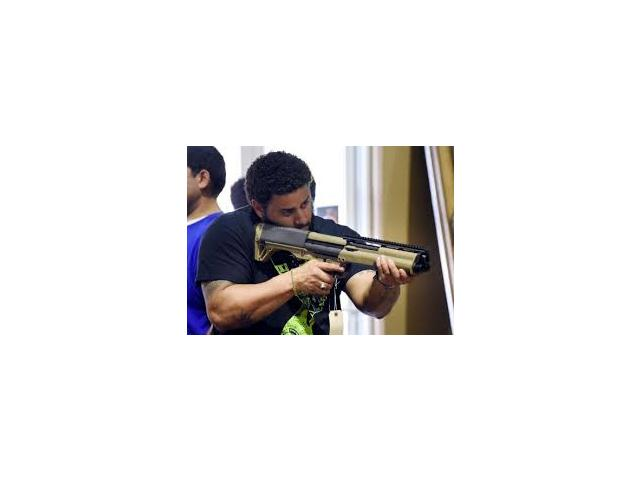rifle: (246, 223, 437, 317)
